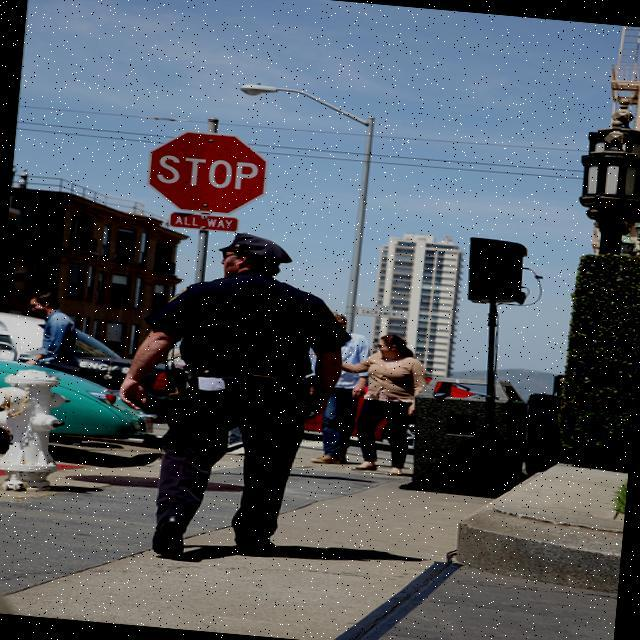fire_hydrant: (0, 364, 73, 494)
